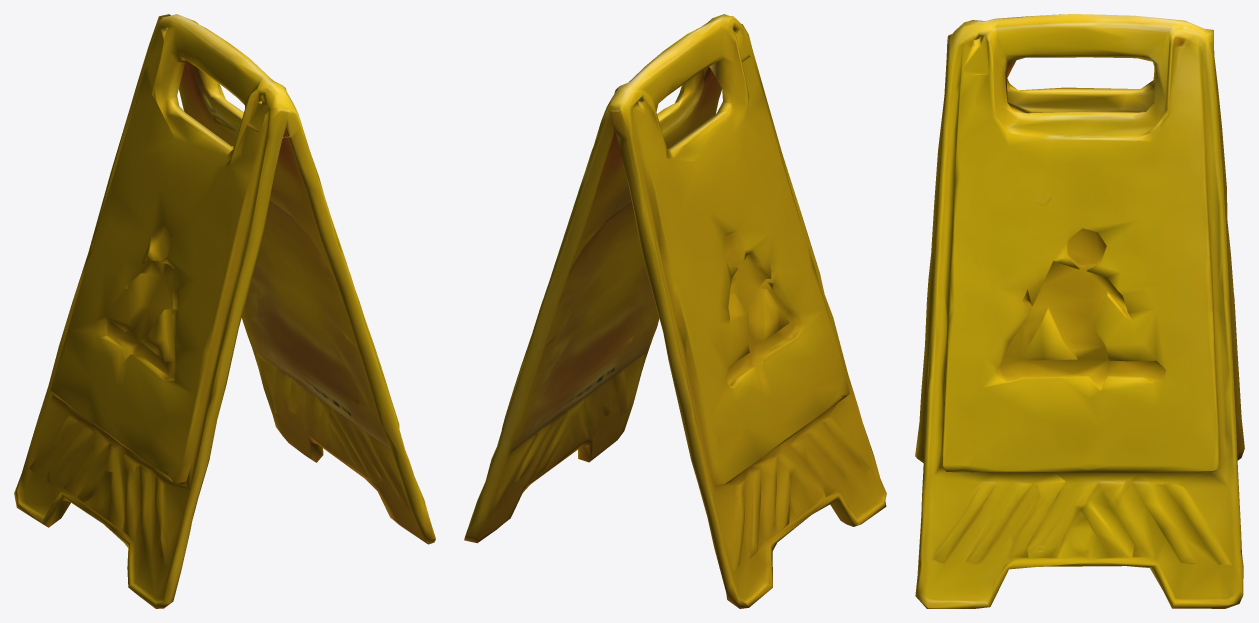
File: wet_floor_sign.fbx
3 renders of one model, left to right at view 1: azimuth 30°, elevation 25°; view 2: azimuth 150°, elevation 25°; view 3: azimuth 270°, elevation 25°, orthographic. The views are drawn at different scales.
Parts seen in each view (by area): view 1: wet_floor_sign; view 2: wet_floor_sign; view 3: wet_floor_sign.
Boxes of the visible parts, x1,y1,x2,y2 form: wet_floor_sign: [14, 14, 435, 608]; wet_floor_sign: [464, 14, 886, 608]; wet_floor_sign: [915, 14, 1244, 608].
Size of the model in its own units: 0.3782 by 0.6198 by 0.3538.
1 material, 1 textured.
